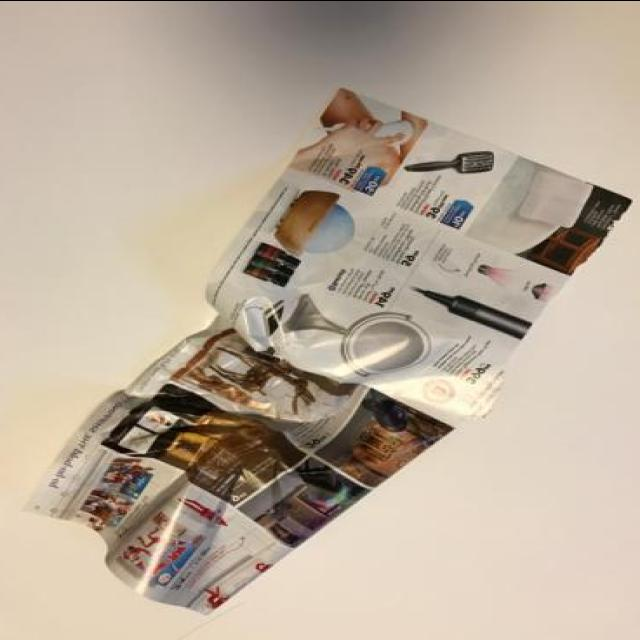kertas: (23, 83, 636, 616)
